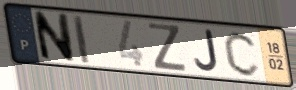4: (117, 19, 146, 70)
C: (222, 29, 262, 78)
I: (71, 13, 92, 66)
J: (192, 29, 220, 74)
N: (31, 10, 77, 65)
Z: (147, 21, 188, 73)
